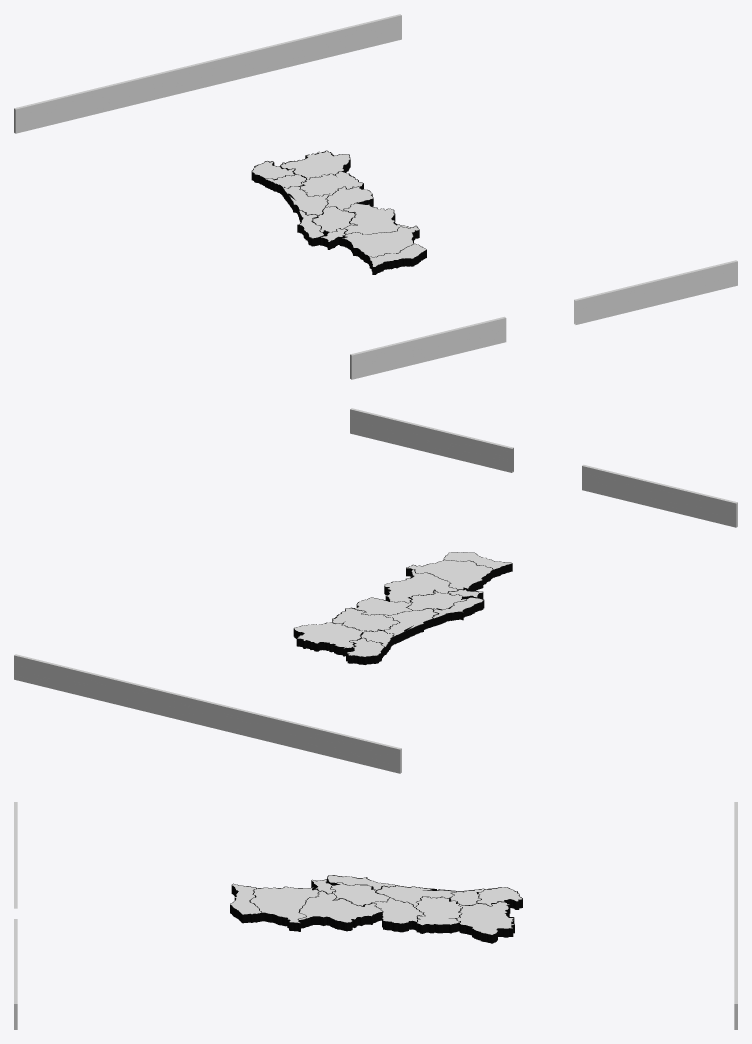
File: Portugal Map.glb
The picture shows the model from 3 angles, top to bottom: view 1: azimuth 30°, elevation 25°; view 2: azimuth 150°, elevation 25°; view 3: azimuth 270°, elevation 25°; orthographic projection. The views are drawn at different scales.
Parts seen in each view (by area): view 1: Cube.002, Baixo Alentejo, Alto Alentejo, Trás-os-Montes, Algarve, Beira Alta, Beira Litoral, Beira Baixa, Ribatejo, Minho, Oeste e Lisboa; view 2: Cube.002, Trás-os-Montes, Baixo Alentejo, Alto Alentejo, Beira Litoral, Beira Alta, Minho, Oeste e Lisboa, Ribatejo, Beira Baixa, Algarve; view 3: Alto Alentejo, Baixo Alentejo, Trás-os-Montes, Cube.002, Beira Alta, Beira Baixa, Algarve, Beira Litoral, Ribatejo, Minho, Oeste e Lisboa, Douro Litoral.
Boxes of the visible parts, bbox=[...] form: Cube.002: bbox=[14, 14, 737, 379]; Baixo Alentejo: bbox=[339, 225, 419, 264]; Alto Alentejo: bbox=[344, 202, 410, 234]; Trás-os-Montes: bbox=[280, 150, 350, 179]; Algarve: bbox=[369, 243, 426, 274]; Beira Alta: bbox=[300, 171, 363, 196]; Beira Litoral: bbox=[282, 186, 332, 216]; Beira Baixa: bbox=[326, 186, 373, 210]; Ribatejo: bbox=[312, 206, 357, 236]; Minho: bbox=[251, 161, 295, 185]; Oeste e Lisboa: bbox=[297, 210, 324, 246]; Cube.002: bbox=[14, 408, 737, 773]; Trás-os-Montes: bbox=[293, 622, 366, 656]; Baixo Alentejo: bbox=[406, 559, 493, 590]; Alto Alentejo: bbox=[384, 569, 457, 602]; Beira Litoral: bbox=[383, 608, 438, 644]; Beira Alta: bbox=[332, 607, 399, 631]; Minho: bbox=[346, 638, 384, 664]; Oeste e Lisboa: bbox=[432, 597, 484, 626]; Ribatejo: bbox=[406, 589, 466, 610]; Beira Baixa: bbox=[354, 597, 412, 615]; Algarve: bbox=[443, 552, 512, 577]; Alto Alentejo: bbox=[298, 890, 382, 931]; Baixo Alentejo: bbox=[250, 886, 318, 931]; Trás-os-Montes: bbox=[455, 901, 514, 943]; Cube.002: bbox=[14, 802, 737, 1029]; Beira Alta: bbox=[415, 896, 462, 933]; Beira Baixa: bbox=[371, 897, 424, 932]; Algarve: bbox=[230, 883, 261, 923]; Beira Litoral: bbox=[375, 885, 456, 906]; Ribatejo: bbox=[330, 882, 389, 906]; Minho: bbox=[476, 887, 522, 909]; Oeste e Lisboa: bbox=[327, 875, 395, 890]; Douro Litoral: bbox=[450, 888, 484, 905].
Bounding box in the file's own units: 8 × 0.4815 × 12.12.
4 materials, 2 textured.
